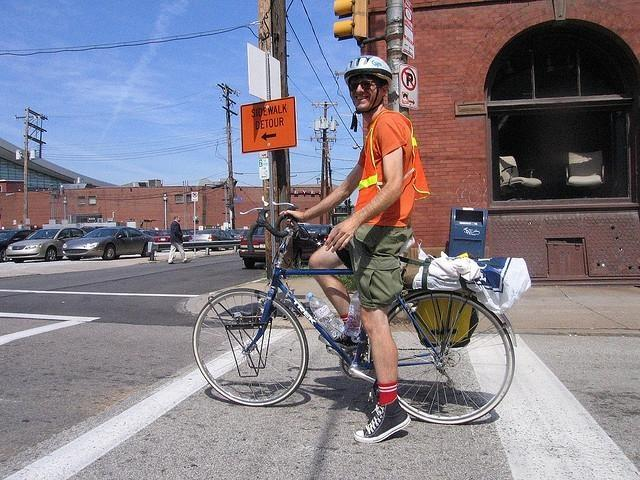bicycle: (194, 204, 513, 424)
car: (60, 224, 160, 265), (6, 227, 84, 262), (240, 226, 266, 270), (2, 230, 30, 256), (304, 224, 335, 244), (144, 230, 172, 252), (194, 228, 238, 241), (180, 229, 193, 241)
